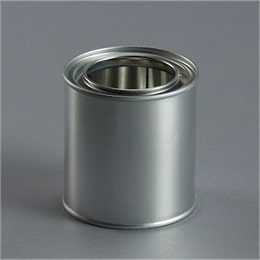metal: (61, 44, 200, 231)
